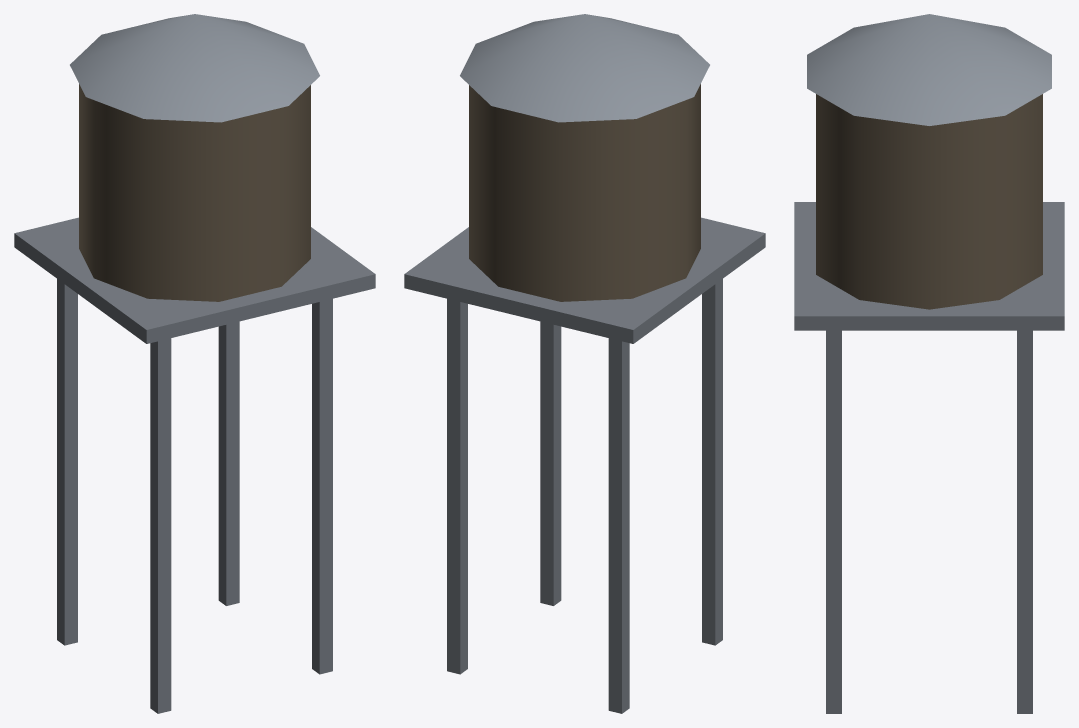
The model's file is roofprop.fbx.
3 renders of one model, left to right at view 1: azimuth 30°, elevation 25°; view 2: azimuth 150°, elevation 25°; view 3: azimuth 270°, elevation 25°, orthographic. The views are drawn at different scales.
Parts seen in each view (by area): view 1: a2013/700/roofprop; view 2: a2013/700/roofprop; view 3: a2013/700/roofprop.
Part boxes in pixels (x1,y1,x2,y2): a2013/700/roofprop: (14, 14, 375, 713); a2013/700/roofprop: (404, 14, 765, 713); a2013/700/roofprop: (794, 14, 1064, 713).
Bounding box in the file's own units: 3.4 × 9.1 × 3.4.
